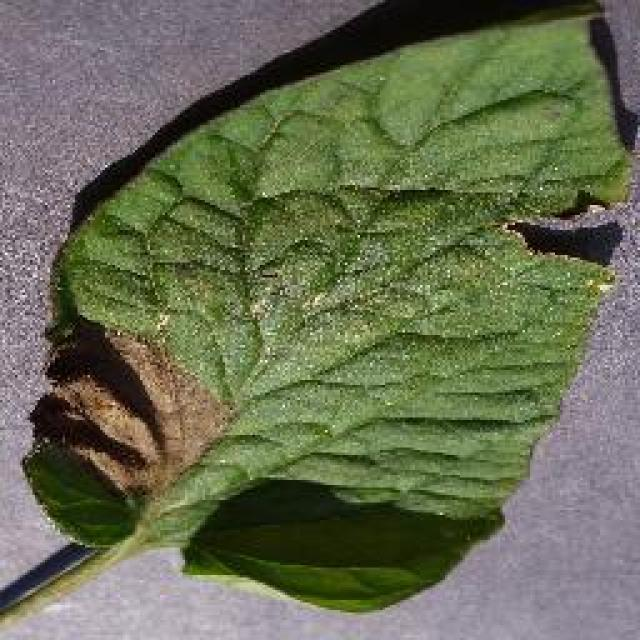Tomato late blight leaf: (21, 13, 634, 615)
